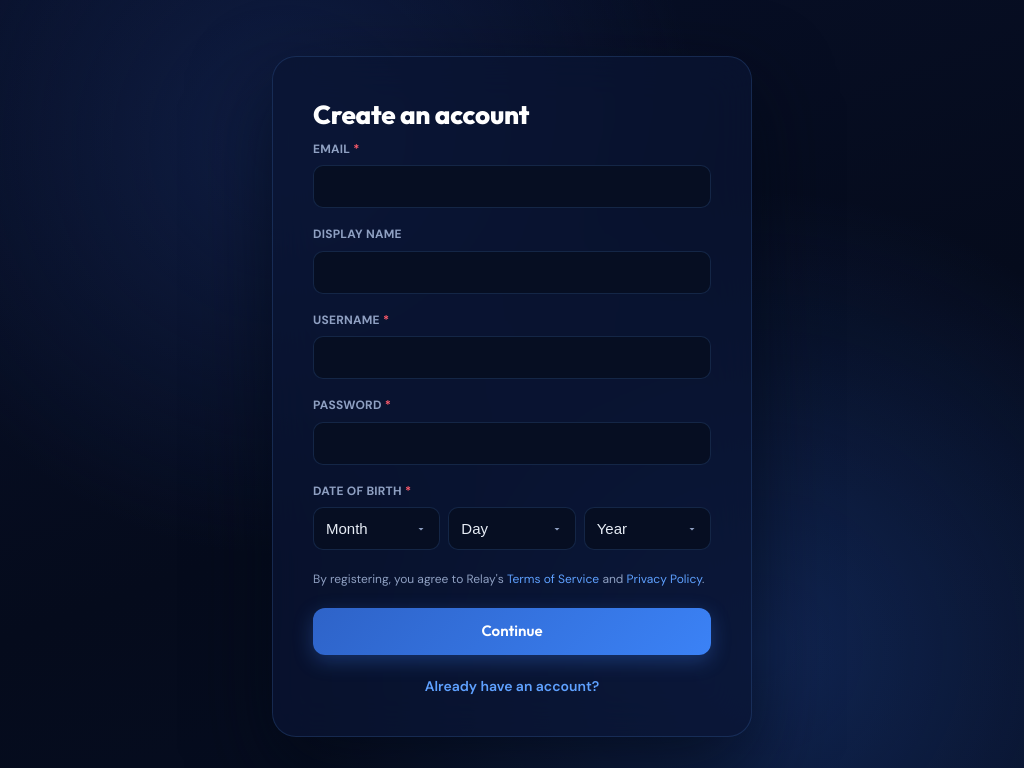
Scenario: RegisterPage › shows error when date of birth is not filled
In the field labelled "EMAIL": (512,187) [313,165,711,208], type "test@example.com"
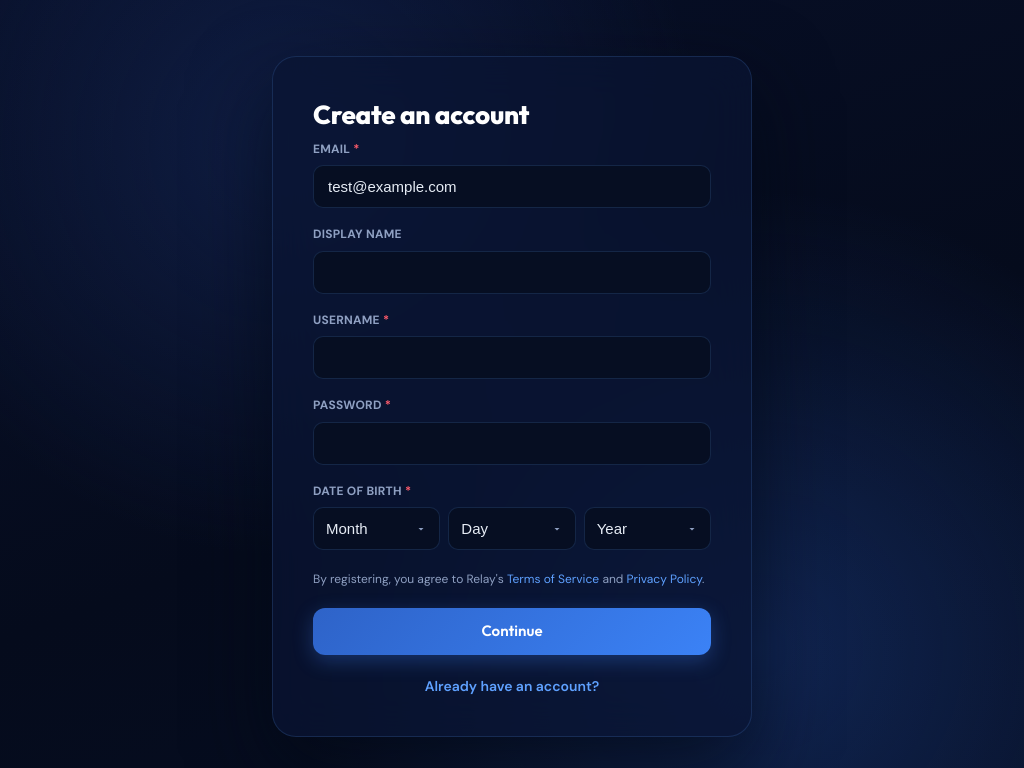
In the field labelled "USERNAME": (512,358) [313,336,711,379], type "testuser"
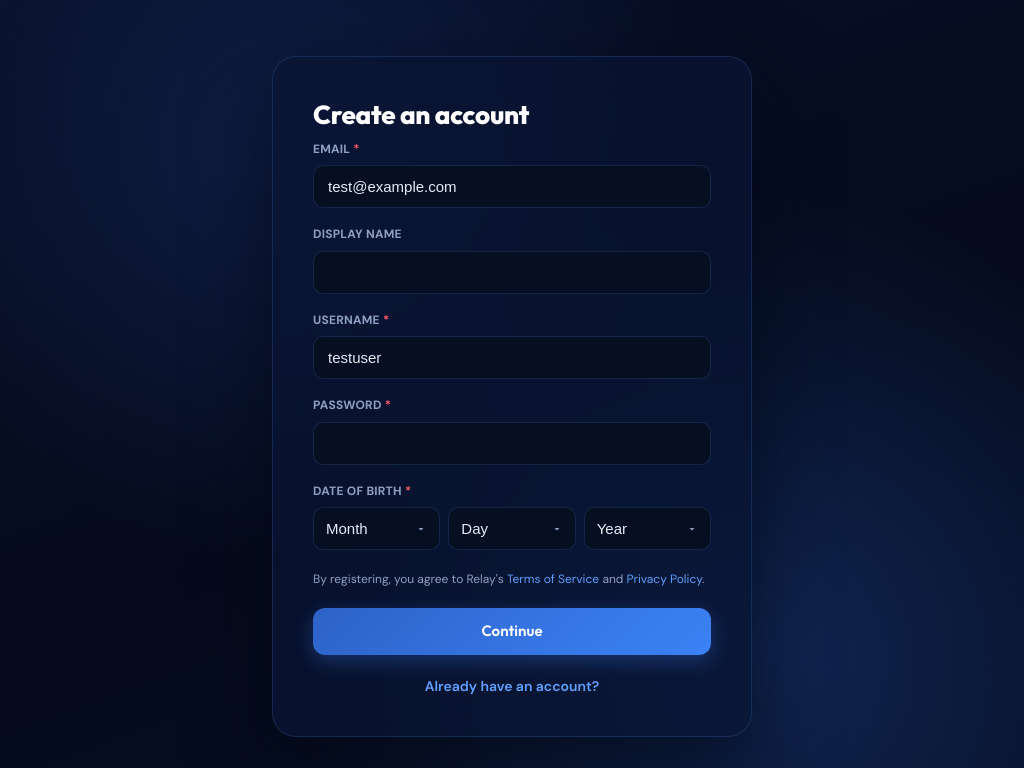
In the password field labelled "PASSWORD": (512,443) [313,422,711,465], type "password123"
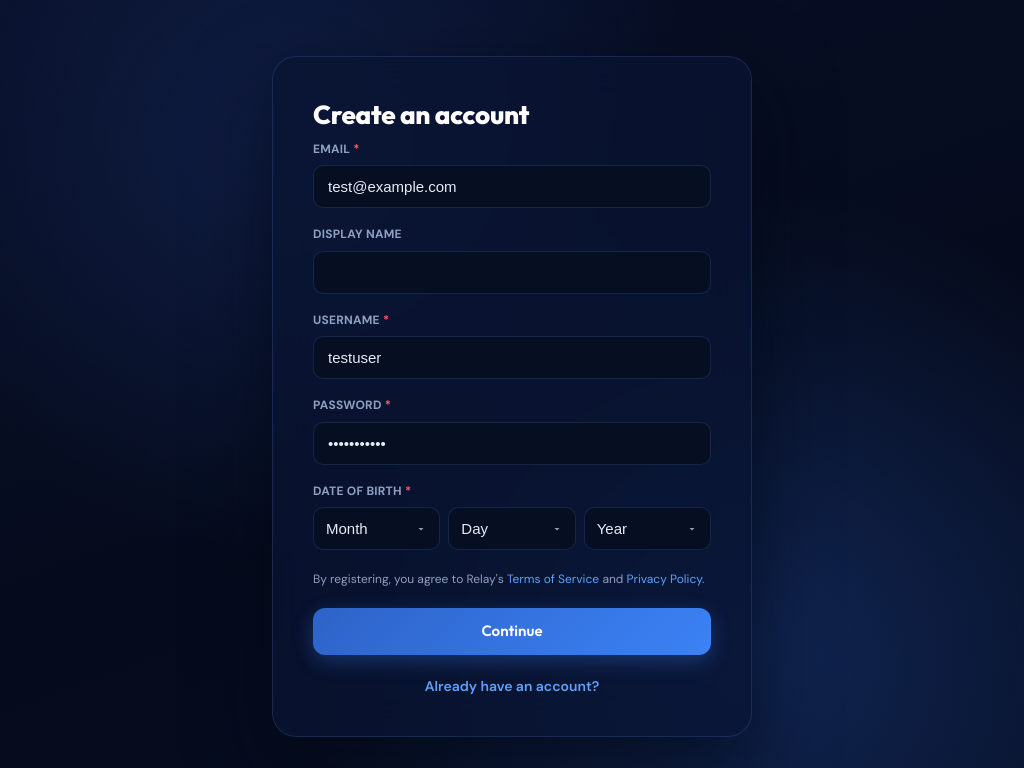
Click the button "Continue": (512,632) [313,608,711,655]
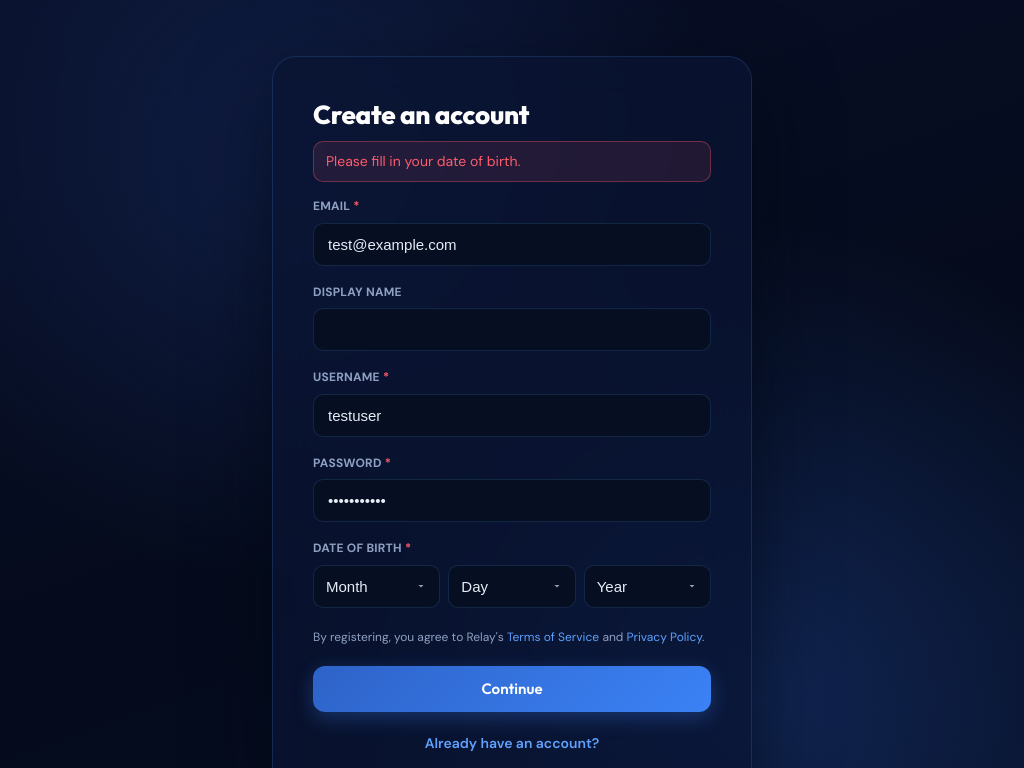
Result: the text "Please fill in your date of birth." is shown at [313,141,711,182]
